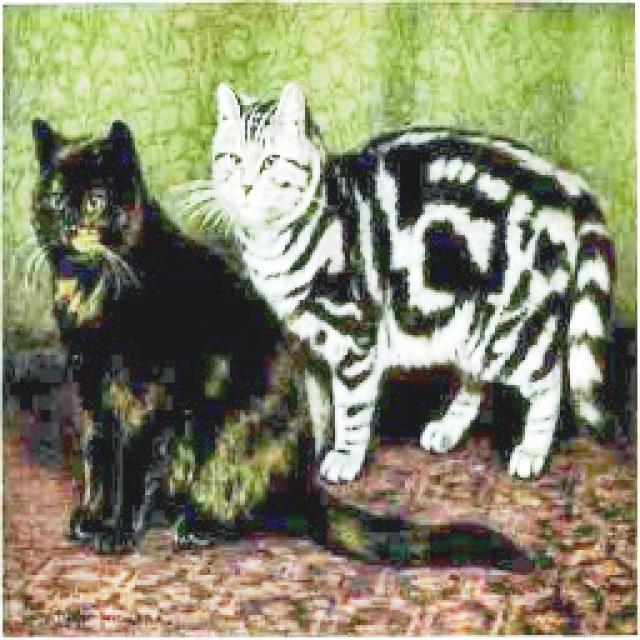cat: (27, 116, 543, 587), (217, 80, 625, 478)
